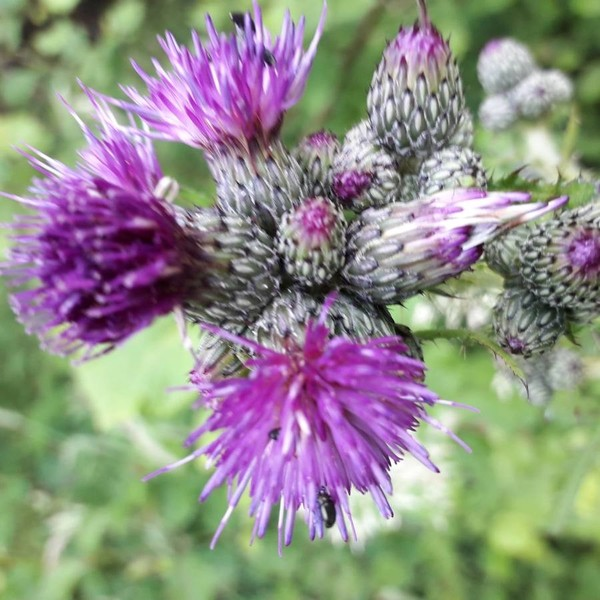obstacle: (24, 51, 570, 498)
